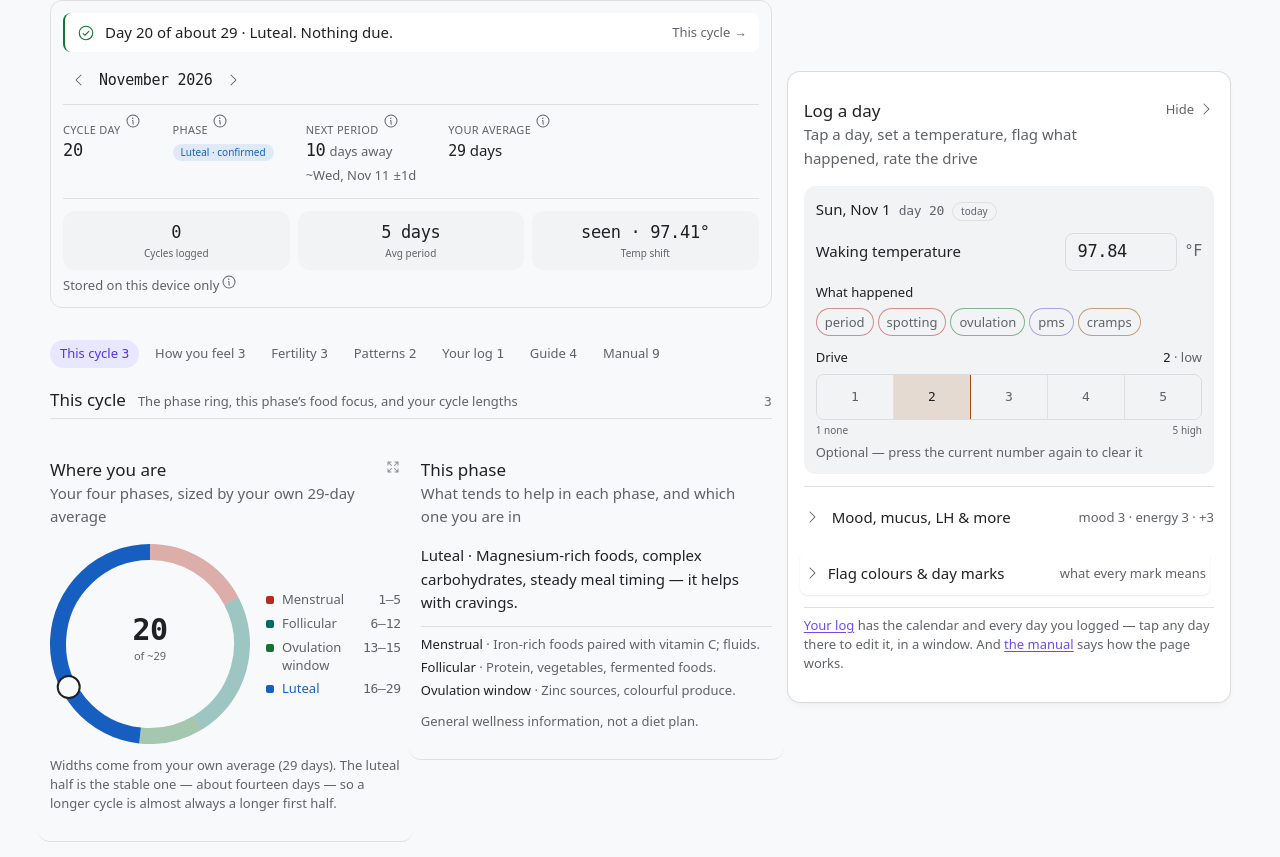
Cycle · a log row opens that day in a window › opens the picked day, with the real editor inside it
The width and height of the screenshot is (1280, 857).
Click the button "Your log 1".
click(473, 354)  # box x1=432 y1=340 x2=514 y2=368
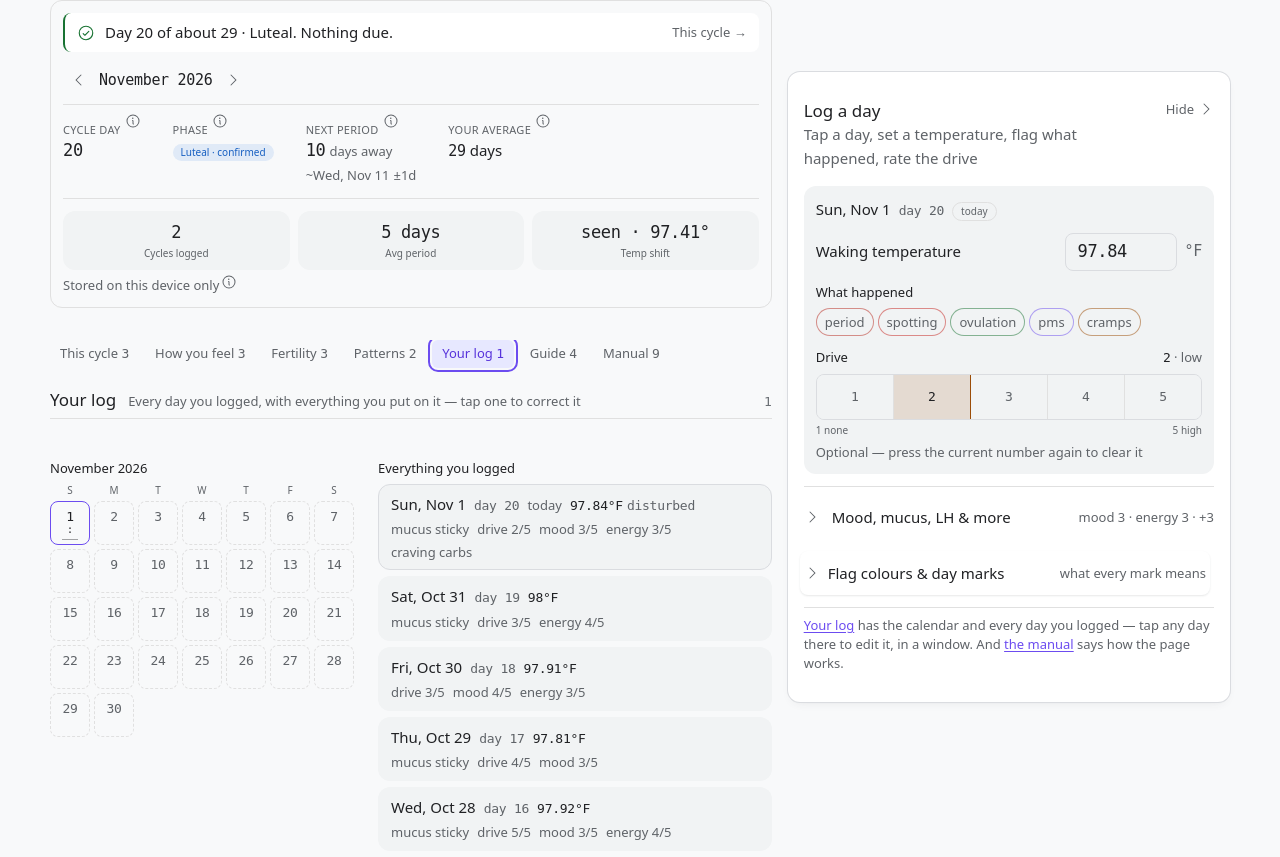
Click the button "1 :".
click(70, 522)  # box x1=50 y1=500 x2=90 y2=544
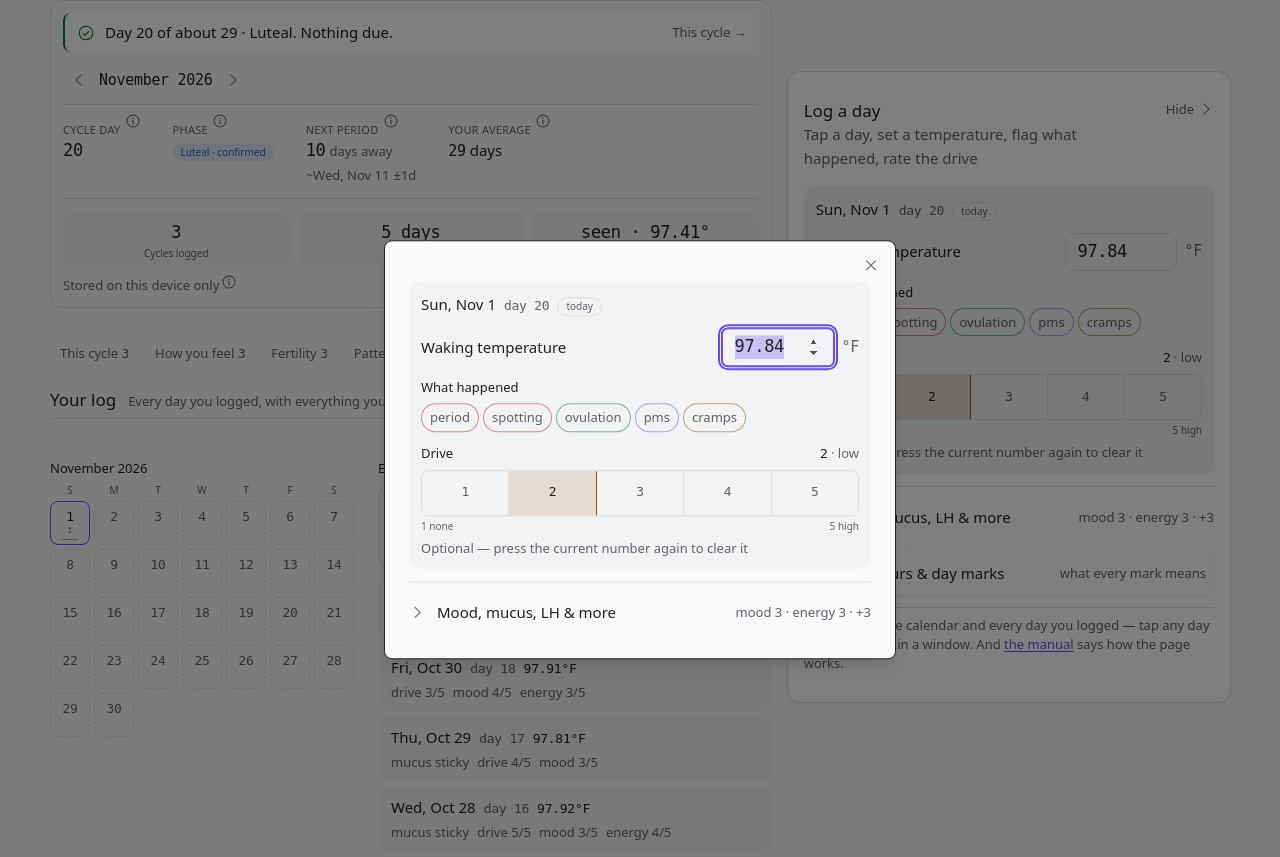
Now the button "Mood, mucus, LH & more mood 3 · energy 3 · +3" is shown, box x1=409 y1=591 x2=871 y2=635
Now the number field labelled "Waking temperature °F" is shown, box x1=722 y1=328 x2=834 y2=366
